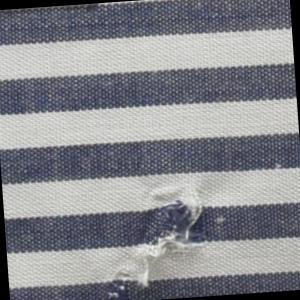Damage: (94, 173, 233, 300)
Stain: (1, 4, 105, 25)
